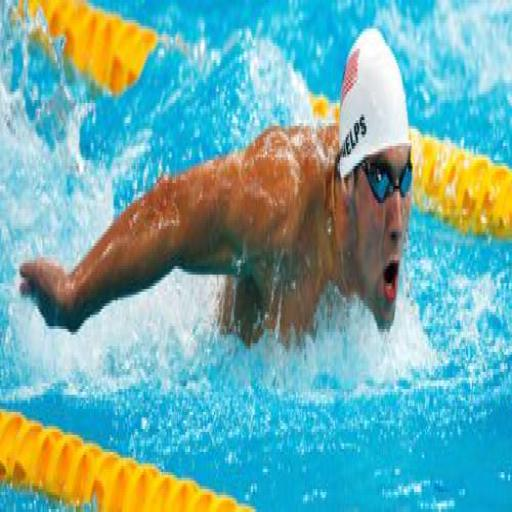swimming: (17, 23, 415, 363)
